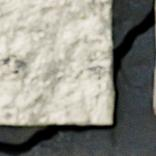brick: (0, 0, 113, 124), (154, 73, 155, 113)
crack: (0, 0, 155, 155)
